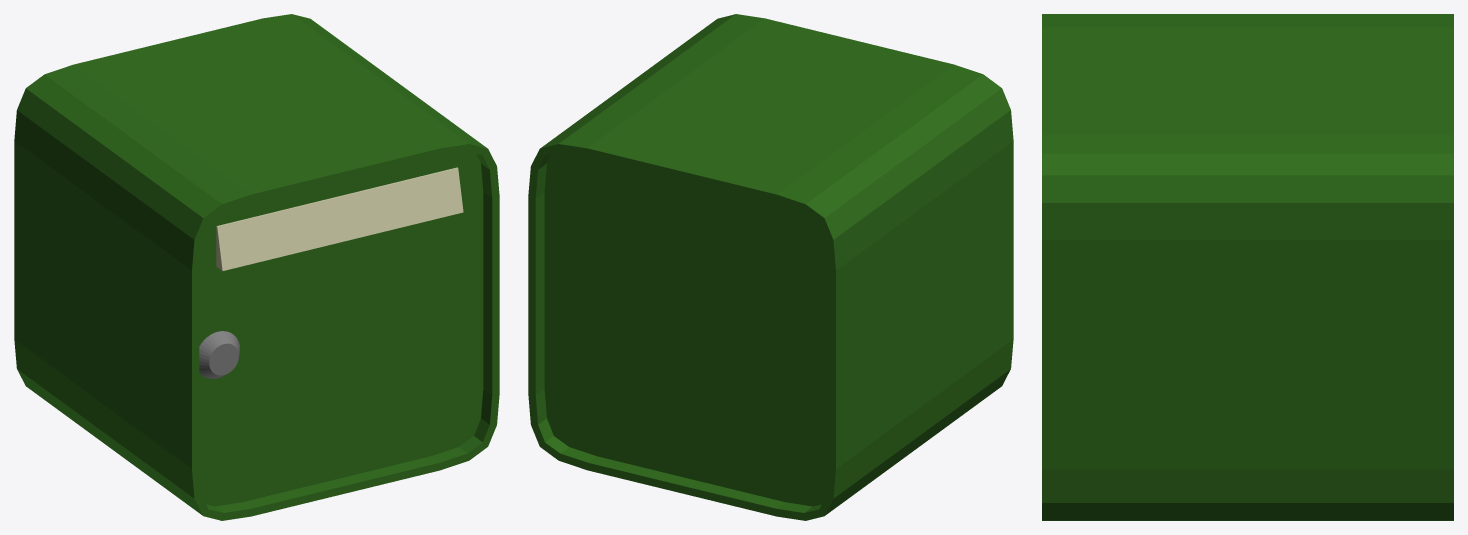
The model's file is sh-contrib-boite-a-lettre.glb.
3 views of the same model, side by side, from view 1: azimuth 30°, elevation 25°; view 2: azimuth 150°, elevation 25°; view 3: azimuth 270°, elevation 25° (orthographic). The views are drawn at different scales.
Parts seen in each view (by area): view 1: Plane, Cube_Cube.004, Plane.001_Plane.002; view 2: Plane; view 3: Plane.
Boxes of the visible parts, x1,y1,x2,y2 form: Plane: (14,14,499,520); Cube_Cube.004: (216,167,463,270); Plane.001_Plane.002: (199,331,240,378); Plane: (528,14,1013,520); Plane: (1042,14,1453,520).
Size of the model in its own units: 1 by 1 by 1.
